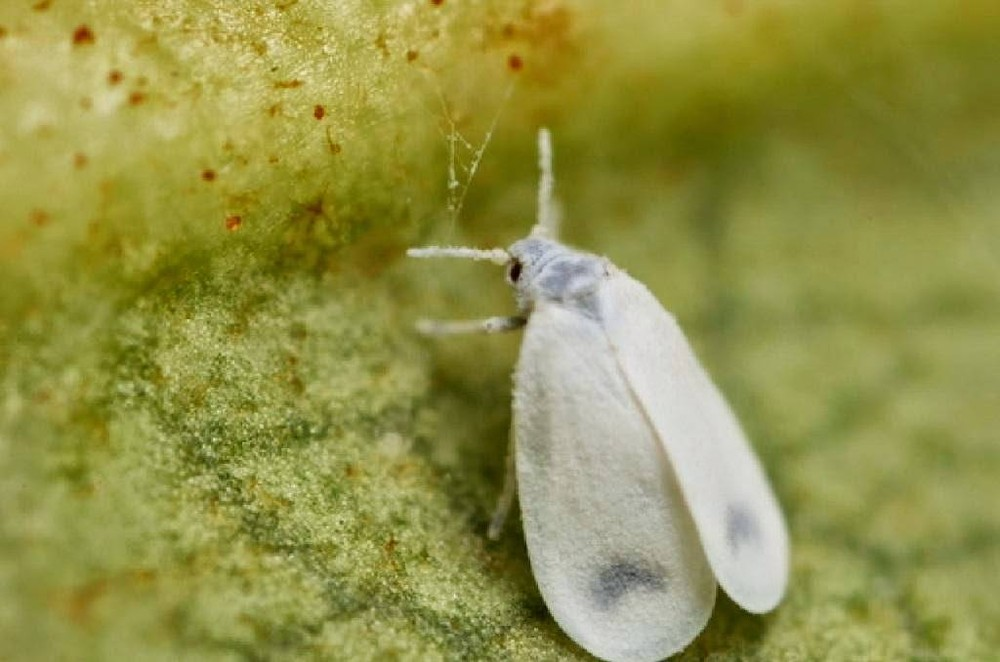Mosca Blanca: (394, 133, 816, 662)
